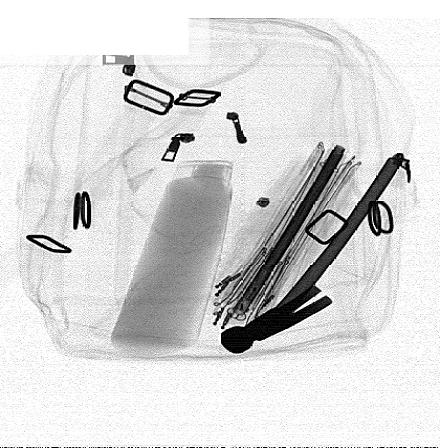Hammer: (218, 157, 402, 354)
